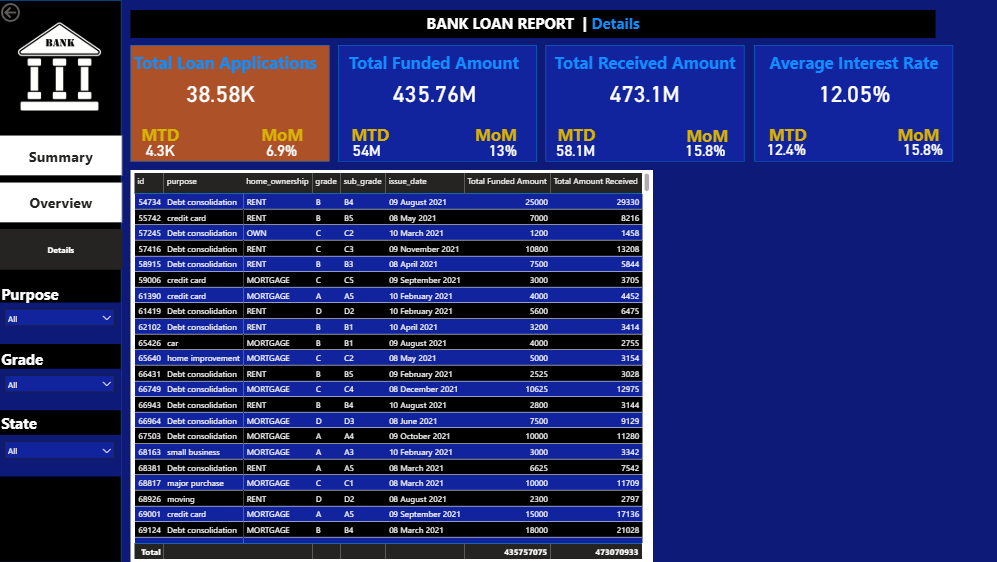

Layout of this report page (visuals, bound fields, positions):
{"tool":"powerbi","page":{"name":"Details","canvas":[1600,900],"ordinal":2},"visuals":[{"type":"textbox","box":[211.7,15,1288.3,45],"z":0},{"type":"shape","box":[0,0,197.5,900],"z":1000},{"type":"shape","box":[211.7,71.7,318.3,186.7],"z":2000},{"type":"card","fields":{"Values":["financial_loan_full.Total loan applications"]},"box":[248.3,113.3,216.7,68.3],"z":3000},{"type":"card","fields":{"Values":["financial_loan_full.MTD loan applications"]},"box":[211.7,205,95,68.3],"z":4000},{"type":"card","fields":{"Values":["financial_loan_full.MoM Loan application"]},"box":[405,205,95,68.3],"z":5000},{"type":"textbox","box":[211.7,75,318.3,51.7],"z":6000},{"type":"textbox","box":[223.3,191.7,83.3,48.3],"z":7000},{"type":"textbox","box":[416.7,191.7,100,58.3],"z":8000},{"type":"shape","box":[543.3,71.7,318.3,186.7],"z":9000},{"type":"card","fields":{"Values":["financial_loan_full.Total Funded Amount"]},"box":[590,113.3,216.7,68.3],"z":10000},{"type":"card","fields":{"Values":["financial_loan_full.MTD Funded Amount"]},"box":[541.7,205,95,68.3],"z":11000},{"type":"textbox","box":[560,191.7,96.7,48.3],"z":12000},{"type":"card","fields":{"Values":["financial_loan_full.MoM Funded Amount"]},"box":[760,205,95,68.3],"z":13000},{"type":"textbox","box":[758.3,191.7,96.7,48.3],"z":14000},{"type":"textbox","box":[556.7,76.7,318.3,51.7],"z":15000},{"type":"shape","box":[875,71.7,318.3,186.7],"z":16000},{"type":"shape","box":[1210,71.7,318.3,186.7],"z":17000},{"type":"card","fields":{"Values":["financial_loan_full.Total Amount Received"]},"box":[926.7,113.3,216.7,68.3],"z":18000},{"type":"card","fields":{"Values":["financial_loan_full.MTD Received Amount"]},"box":[875,205,95,68.3],"z":19000},{"type":"textbox","box":[890,191.7,96.7,48.3],"z":20000},{"type":"card","fields":{"Values":["financial_loan_full.MTD Average Interest Rate"]},"box":[1214.3,204.3,94.3,68.6],"z":21000},{"type":"card","fields":{"Values":["financial_loan_full.MoM Received Amount"]},"box":[1083.3,206.7,95,68.3],"z":22000},{"type":"textbox","box":[1095,193.3,96.7,48.3],"z":23000},{"type":"textbox","box":[876.7,76.7,318.3,51.7],"z":24000},{"type":"card","fields":{"Values":["financial_loan_full.Average Intrest Rate"]},"box":[1261.7,113.3,216.7,68.3],"z":25000},{"type":"textbox","box":[1210,76.7,318.3,51.7],"z":26000},{"type":"textbox","box":[1228.6,192.9,97.1,48.6],"z":27000},{"type":"card","fields":{"Values":["financial_loan_full.MoM Received Amount"]},"box":[1432.9,204.3,95.7,68.6],"z":28000},{"type":"textbox","box":[1434.3,192.9,95.7,48.6],"z":29000},{"type":"slicer","fields":{"Values":["financial_loan_full.address_state"]},"box":[0,696.7,196.7,66.7],"z":30000},{"type":"textbox","box":[0,656.7,120,48.3],"z":31000},{"type":"slicer","fields":{"Values":["financial_loan_full.grade"]},"box":[0,590,196.7,66.7],"z":32000},{"type":"textbox","box":[0,553.3,120,48.3],"z":33000},{"type":"slicer","fields":{"Values":["financial_loan_full.purpose"]},"box":[0,483.3,196.7,66.7],"z":34000},{"type":"textbox","box":[0,450,120,48.3],"z":35000},{"type":"image","box":[0,8.3,196.7,196.7],"z":36000},{"type":"tableEx","fields":{"Values":["financial_loan_full.id","financial_loan_full.purpose","financial_loan_full.home_ownership","financial_loan_full.grade","financial_loan_full.sub_grade","financial_loan_full.issue_date","financial_loan_full.Total Funded Amount","financial_loan_full.Total Amount Received"]},"box":[211.4,272.9,835.7,627.1],"z":37000},{"type":"actionButton","box":[0,0,100,40],"z":38000},{"type":"pageNavigator","box":[2.5,215,197.5,217.5],"z":39000}]}

Visuals, with their boxes on the page's 1600x900 design canvas (x1, y1, x2, y2). These are canvas units, not pixel positions in the 997x562 screenshot, which may show the page scaled, cropped or inside an application window:
textbox: [left=212, top=15, right=1500, bottom=60]
shape: [left=0, top=0, right=198, bottom=900]
shape: [left=212, top=72, right=530, bottom=258]
card - financial_loan_full.Total loan applications: [left=248, top=113, right=465, bottom=182]
card - financial_loan_full.MTD loan applications: [left=212, top=205, right=307, bottom=273]
card - financial_loan_full.MoM Loan application: [left=405, top=205, right=500, bottom=273]
textbox: [left=212, top=75, right=530, bottom=127]
textbox: [left=223, top=192, right=307, bottom=240]
textbox: [left=417, top=192, right=517, bottom=250]
shape: [left=543, top=72, right=862, bottom=258]
card - financial_loan_full.Total Funded Amount: [left=590, top=113, right=807, bottom=182]
card - financial_loan_full.MTD Funded Amount: [left=542, top=205, right=637, bottom=273]
textbox: [left=560, top=192, right=657, bottom=240]
card - financial_loan_full.MoM Funded Amount: [left=760, top=205, right=855, bottom=273]
textbox: [left=758, top=192, right=855, bottom=240]
textbox: [left=557, top=77, right=875, bottom=128]
shape: [left=875, top=72, right=1193, bottom=258]
shape: [left=1210, top=72, right=1528, bottom=258]
card - financial_loan_full.Total Amount Received: [left=927, top=113, right=1143, bottom=182]
card - financial_loan_full.MTD Received Amount: [left=875, top=205, right=970, bottom=273]
textbox: [left=890, top=192, right=987, bottom=240]
card - financial_loan_full.MTD Average Interest Rate: [left=1214, top=204, right=1309, bottom=273]
card - financial_loan_full.MoM Received Amount: [left=1083, top=207, right=1178, bottom=275]
textbox: [left=1095, top=193, right=1192, bottom=242]
textbox: [left=877, top=77, right=1195, bottom=128]
card - financial_loan_full.Average Intrest Rate: [left=1262, top=113, right=1478, bottom=182]
textbox: [left=1210, top=77, right=1528, bottom=128]
textbox: [left=1229, top=193, right=1326, bottom=242]
card - financial_loan_full.MoM Received Amount: [left=1433, top=204, right=1529, bottom=273]
textbox: [left=1434, top=193, right=1530, bottom=242]
slicer - financial_loan_full.address_state: [left=0, top=697, right=197, bottom=763]
textbox: [left=0, top=657, right=120, bottom=705]
slicer - financial_loan_full.grade: [left=0, top=590, right=197, bottom=657]
textbox: [left=0, top=553, right=120, bottom=602]
slicer - financial_loan_full.purpose: [left=0, top=483, right=197, bottom=550]
textbox: [left=0, top=450, right=120, bottom=498]
image: [left=0, top=8, right=197, bottom=205]
tableEx - financial_loan_full.id x financial_loan_full.purpose: [left=211, top=273, right=1047, bottom=900]
actionButton: [left=0, top=0, right=100, bottom=40]
pageNavigator: [left=2, top=215, right=200, bottom=432]
